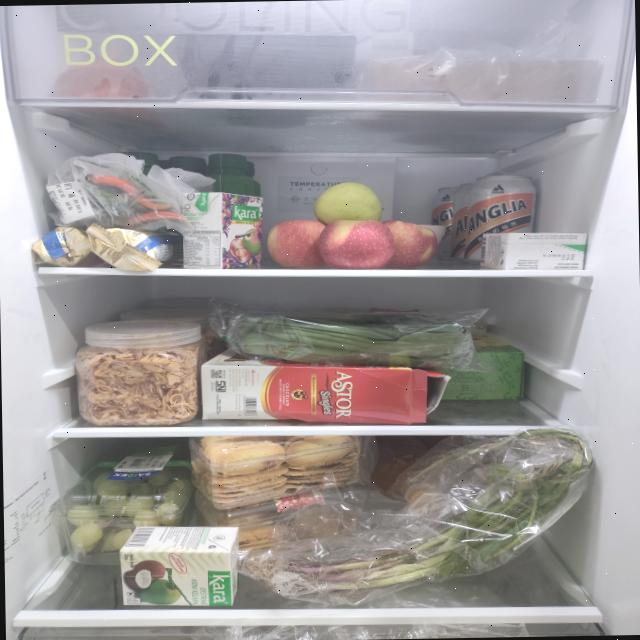apple: (266, 180, 438, 270)
chili: (88, 173, 184, 226)
coconut_milk: (117, 523, 240, 608), (182, 190, 264, 270)
grape: (49, 446, 198, 566)
leafy_greens: (237, 310, 475, 370)
spring_onion: (241, 426, 596, 592)
